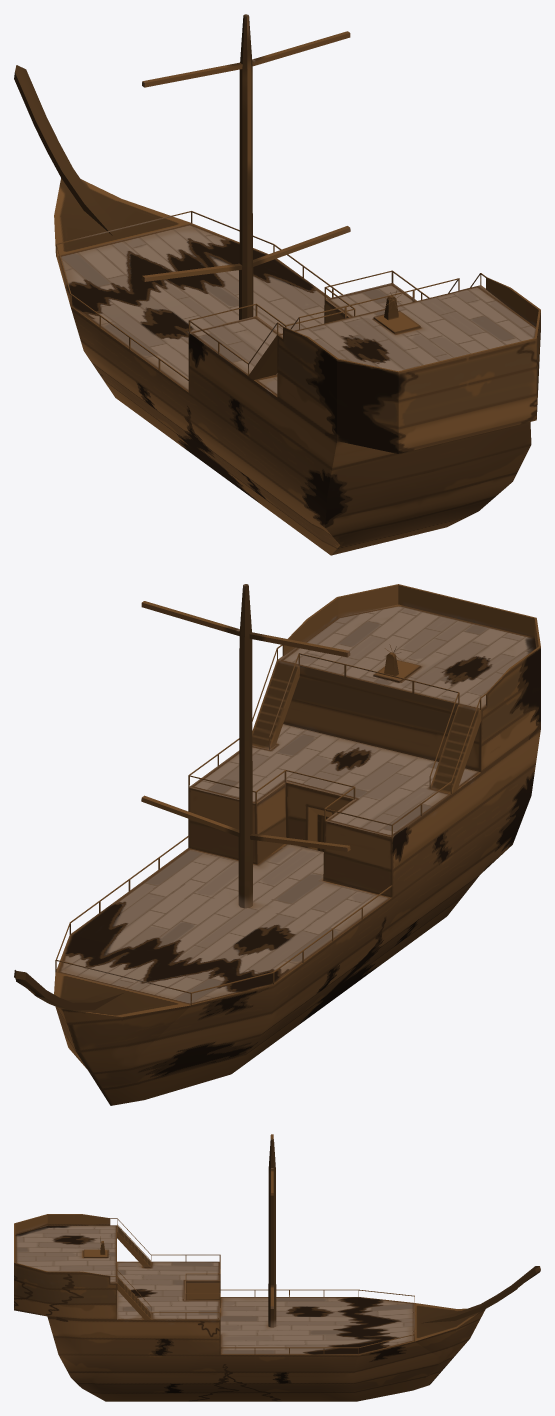
The model's file is Boat_new.FBX.
3 renders of one model, top to bottom at view 1: azimuth 30°, elevation 25°; view 2: azimuth 150°, elevation 25°; view 3: azimuth 270°, elevation 25°, orthographic. The views are drawn at different scales.
Visible parts, largest first — view 1: Object001; view 2: Object001; view 3: Object001.
Part boxes in pixels (bbox=[...]): Object001: bbox=[14, 14, 540, 555]; Object001: bbox=[14, 584, 540, 1105]; Object001: bbox=[14, 1134, 540, 1401].
Size of the model in its own units: 40.92 by 79.85 by 155.
